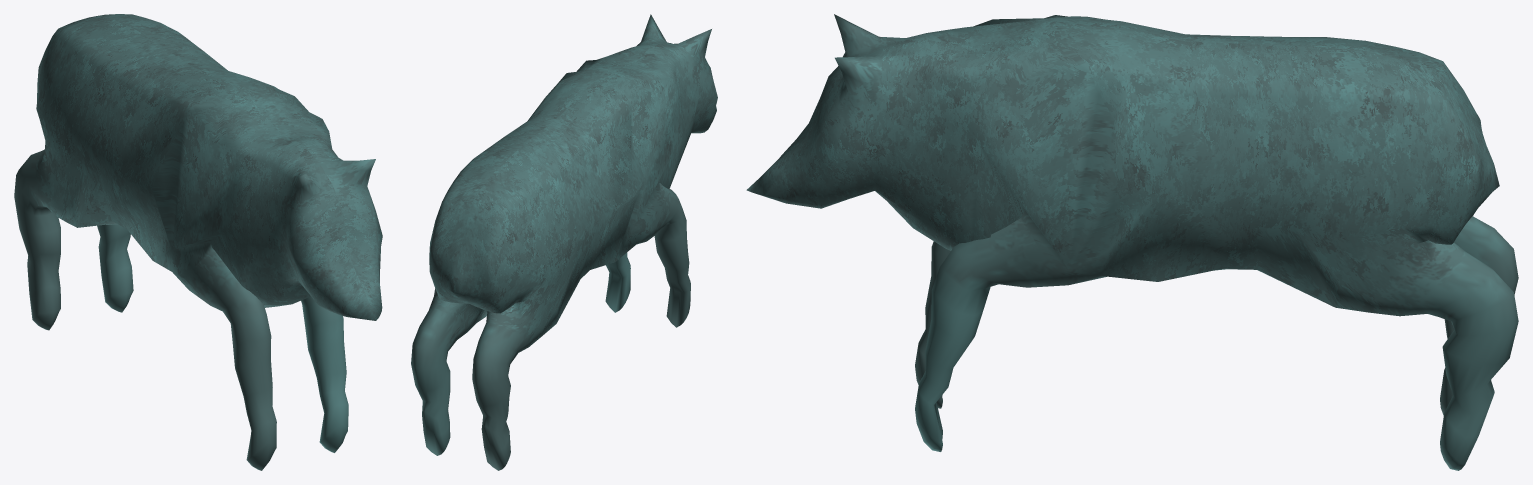
Rendered from piesblend_000026.obj.
3 views of the same model, side by side, from view 1: azimuth 30°, elevation 25°; view 2: azimuth 150°, elevation 25°; view 3: azimuth 270°, elevation 25° (orthographic). The views are drawn at different scales.
Visible parts, largest first — view 1: Cube; view 2: Cube; view 3: Cube.
Part boxes in pixels (x1,y1,x2,y2): Cube: [14, 14, 382, 470]; Cube: [411, 14, 717, 470]; Cube: [746, 14, 1518, 470].
Bounding box in the file's own units: 2.55 × 5.67 × 9.44.
1 material, 1 textured.
